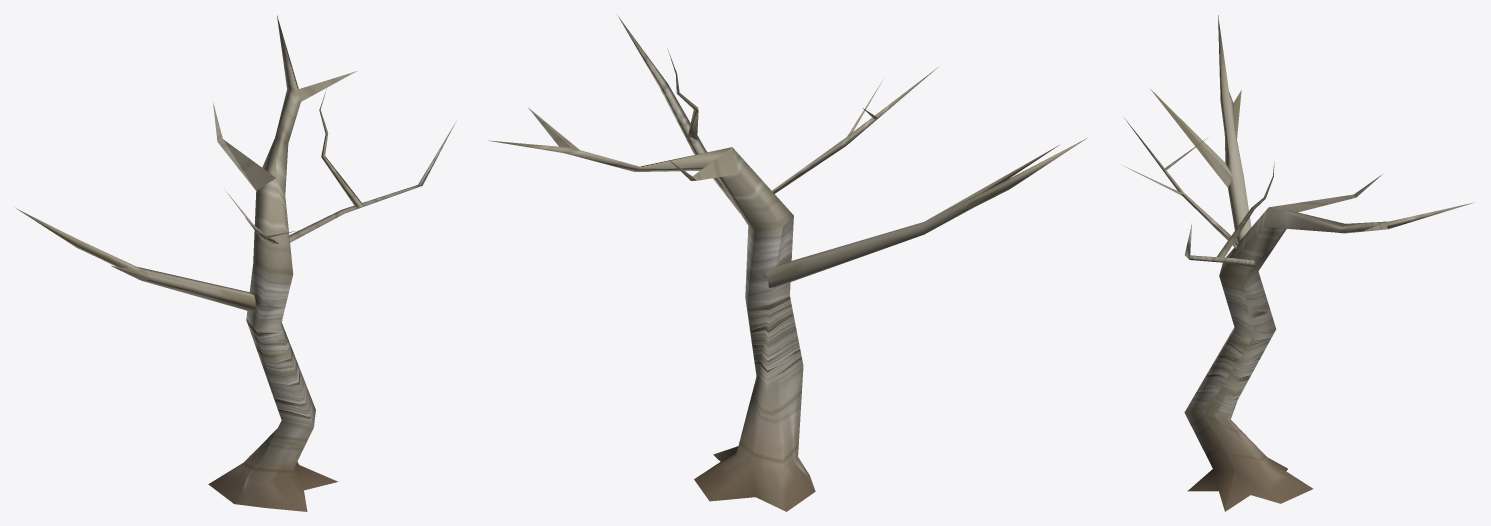
The model's file is tree_TreeDead.FBX.
3 renders of one model, left to right at view 1: azimuth 30°, elevation 25°; view 2: azimuth 150°, elevation 25°; view 3: azimuth 270°, elevation 25°, orthographic. The views are drawn at different scales.
Visible parts, largest first — view 1: env_Treetrunk2; view 2: env_Treetrunk2; view 3: env_Treetrunk2.
Boxes of the visible parts, x1,y1,x2,y2 form: env_Treetrunk2: [16, 15, 456, 511]; env_Treetrunk2: [489, 15, 1087, 511]; env_Treetrunk2: [1124, 15, 1473, 511].
Size of the model in its own units: 36.65 by 27.49 by 30.82.
